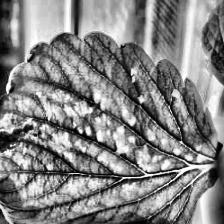Angular Leafspot: (0, 48, 208, 196)
